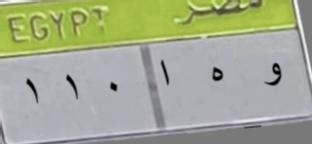0: (105, 78, 123, 103)
1: (59, 71, 87, 105), (22, 74, 41, 106)
alif: (156, 57, 175, 87)
haa: (206, 62, 229, 88)
waw: (259, 59, 285, 95)
